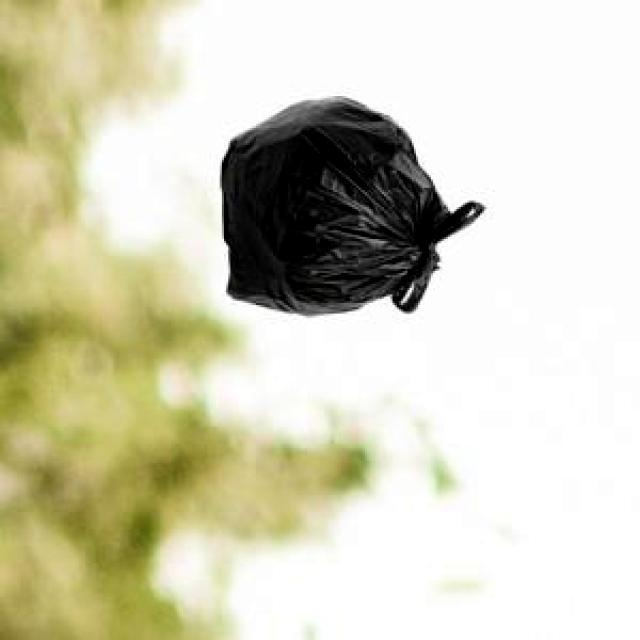Garbage_Bag: (218, 95, 482, 312)
